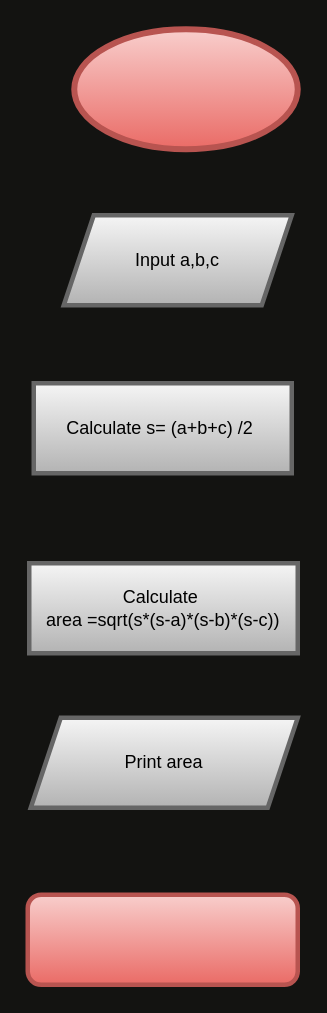
The diagram is 327 pixels wide and 1013 high, and some of its shapes have lost their labels. Each missing label, with the box of its shape:
End: (25, 892, 299, 986)
Start: (70, 26, 300, 152)
